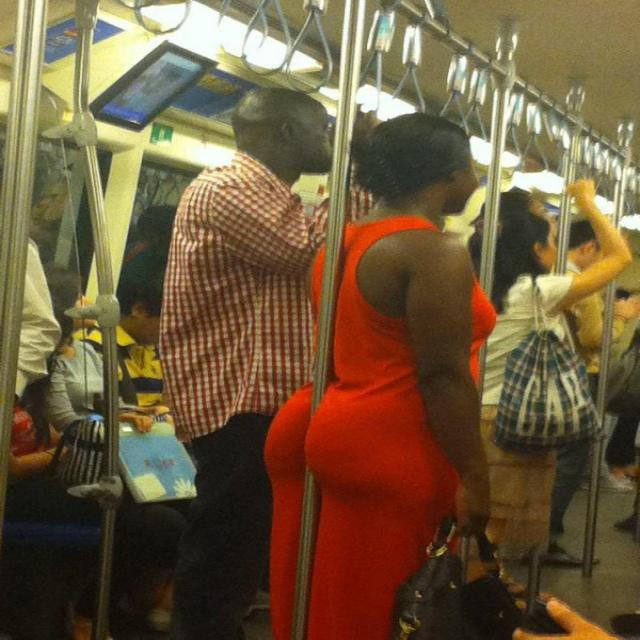body: (258, 108, 528, 640), (148, 77, 387, 639), (474, 175, 634, 604), (47, 271, 229, 634), (478, 187, 608, 571), (0, 108, 86, 631), (542, 218, 639, 569), (590, 280, 639, 639), (496, 584, 591, 640), (125, 200, 188, 270)
